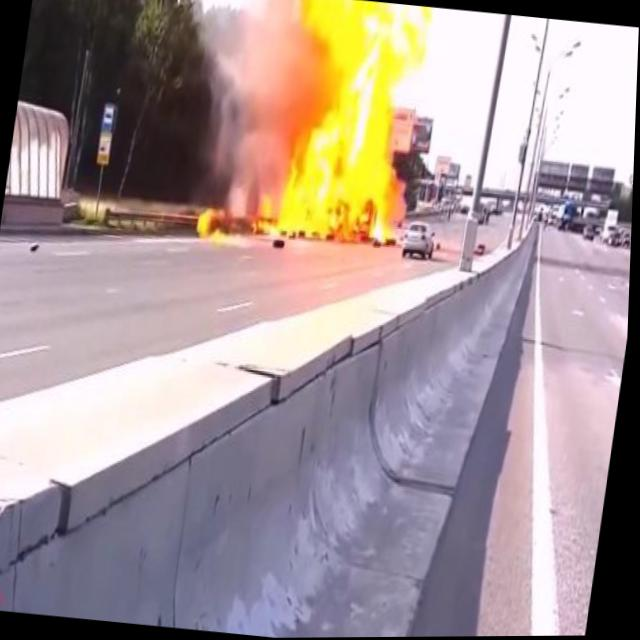fire: (244, 0, 437, 257), (189, 203, 236, 247)
